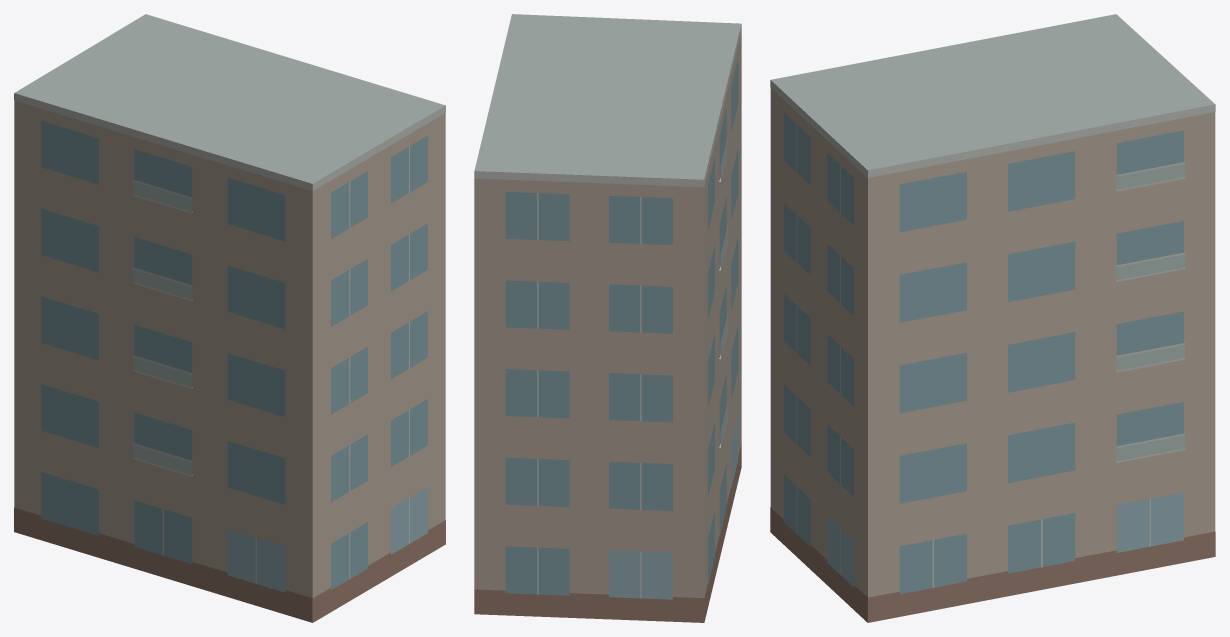
Rendered from survey-upis-32737598.glb.
The picture shows the model from 3 angles, left to right: view 1: azimuth 30°, elevation 25°; view 2: azimuth 150°, elevation 25°; view 3: azimuth 270°, elevation 25°; orthographic projection. The views are drawn at different scales.
Visible parts, largest first — view 1: survey-upis-32737598.tmp; view 2: survey-upis-32737598.tmp; view 3: survey-upis-32737598.tmp.
Part boxes in pixels (bbox=[...]): survey-upis-32737598.tmp: bbox=[14, 14, 445, 622]; survey-upis-32737598.tmp: bbox=[474, 14, 741, 622]; survey-upis-32737598.tmp: bbox=[770, 14, 1215, 622].
Size of the model in its own units: 10.76 by 14.5 by 12.94.
